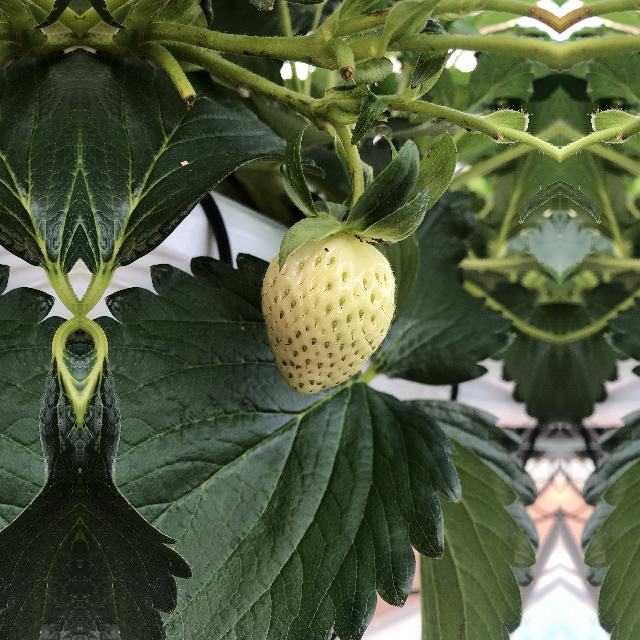Health_25: (256, 228, 402, 398)
